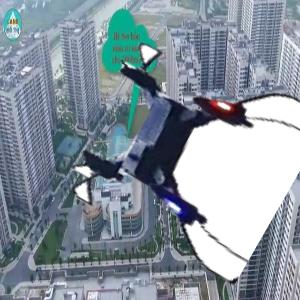drone: (79, 46, 295, 262)
